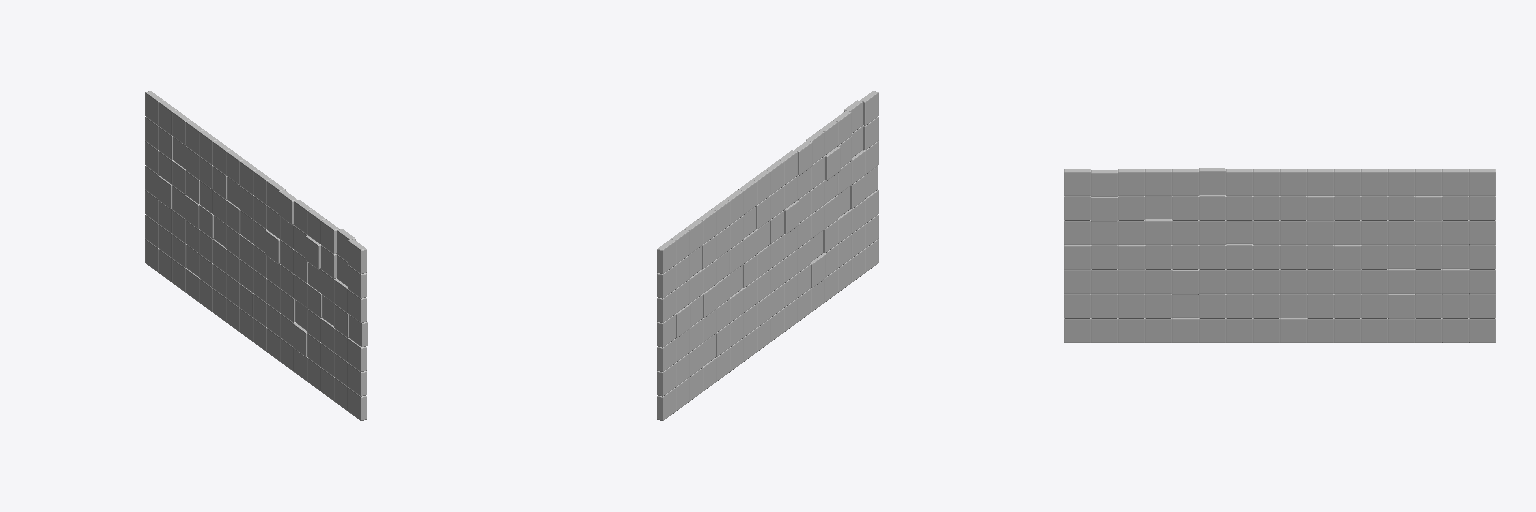
The model's file is wallnew.obj.
3 views of the same model, side by side, from view 1: azimuth 30°, elevation 25°; view 2: azimuth 150°, elevation 25°; view 3: azimuth 270°, elevation 25° (orthographic).
Visible parts, largest first — view 1: objMesh; view 2: objMesh; view 3: objMesh.
Part boxes in pixels (x1,y1,x2,y2): objMesh: (145, 91, 367, 420); objMesh: (657, 91, 878, 420); objMesh: (1064, 168, 1495, 342).
Size of the model in its own units: 0.45 by 7 by 16.